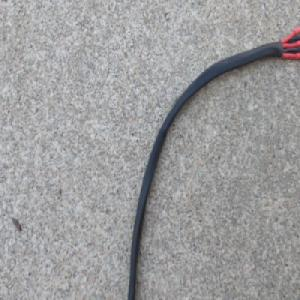Wire: (125, 23, 300, 300)
